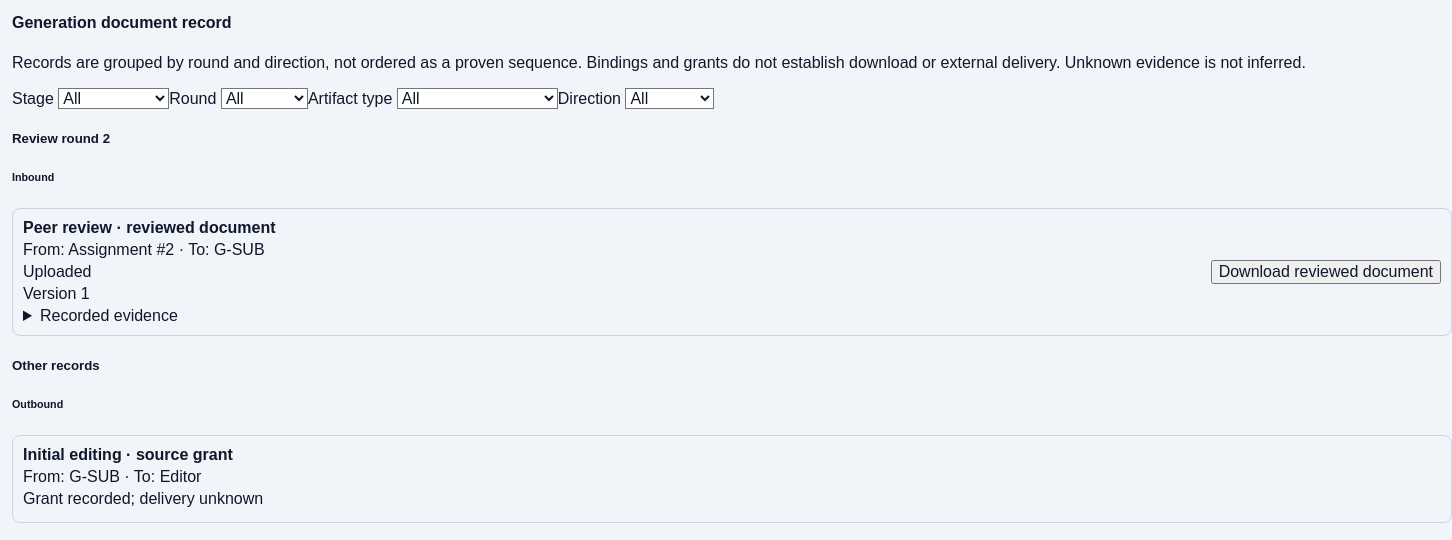
Test: groups recorded evidence and filters by stage, round, type and direction
Later steps or results of the test are not shown.
Expected: the heading "Review round 2" is shown, top-left (12, 131), bottom-right (110, 146)
Expected: the text "Peer review · reviewed document" is shown, top-left (23, 219), bottom-right (276, 236)
Select "inbound" in the dropdown named "Filter direction" at (670, 98), box top-left (625, 88), bottom-right (714, 108)
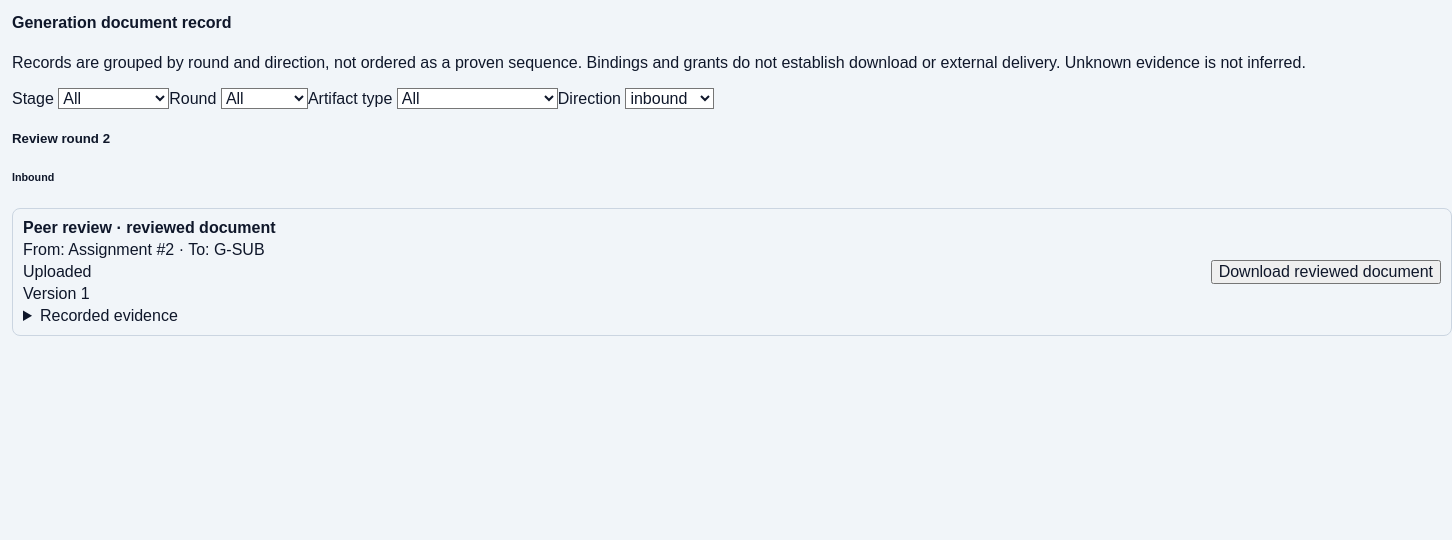
Expected: the text "Grant recorded; delivery unknown" is gone
